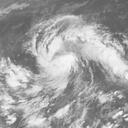cyclone: (31, 17, 85, 89)
